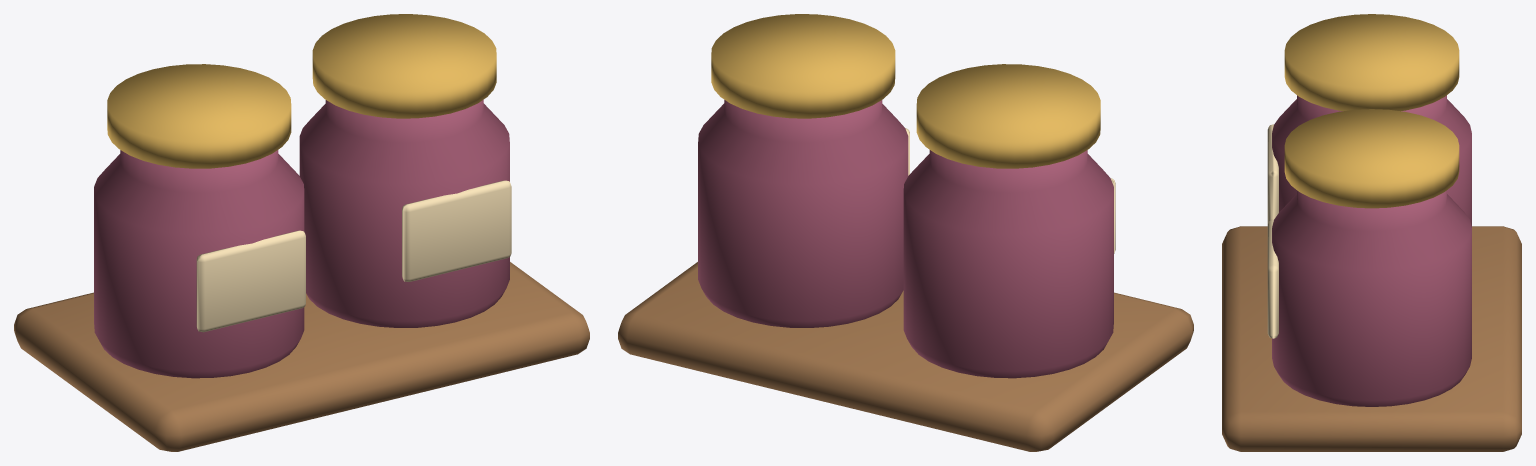
Rendered from goods_jam.glb.
3 views of the same model, side by side, from view 1: azimuth 30°, elevation 25°; view 2: azimuth 150°, elevation 25°; view 3: azimuth 270°, elevation 25° (orthographic). The views are drawn at different scales.
Visible parts, largest first — view 1: goods_jam_crafted_mesh; view 2: goods_jam_crafted_mesh; view 3: goods_jam_crafted_mesh.
Part boxes in pixels (x1,y1,x2,y2): goods_jam_crafted_mesh: (14, 14, 589, 451); goods_jam_crafted_mesh: (618, 14, 1193, 451); goods_jam_crafted_mesh: (1222, 14, 1521, 451).
Size of the model in its own units: 0.76 by 0.46 by 0.48.
